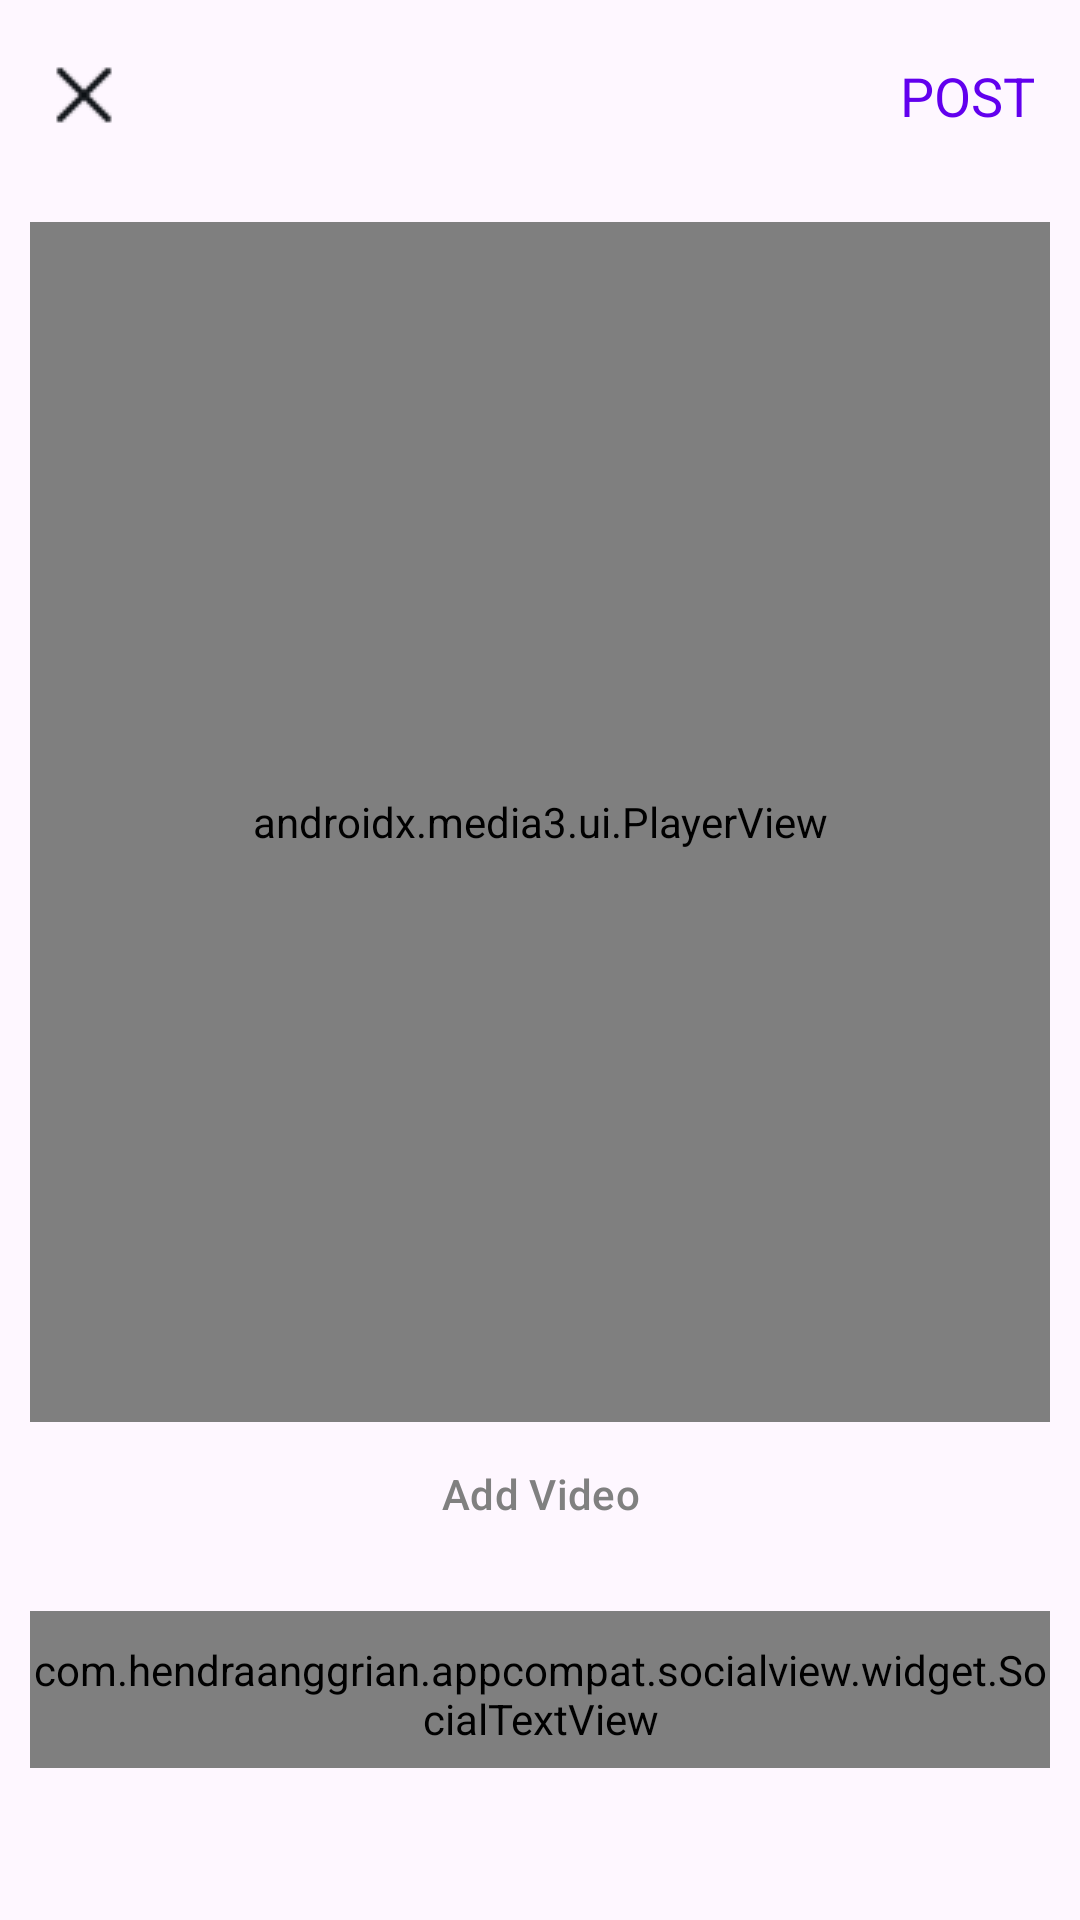

Where to tap for icons on this 1080w x 1920h app screen, as (x=x, y=y):
close: (x=84, y=95)
